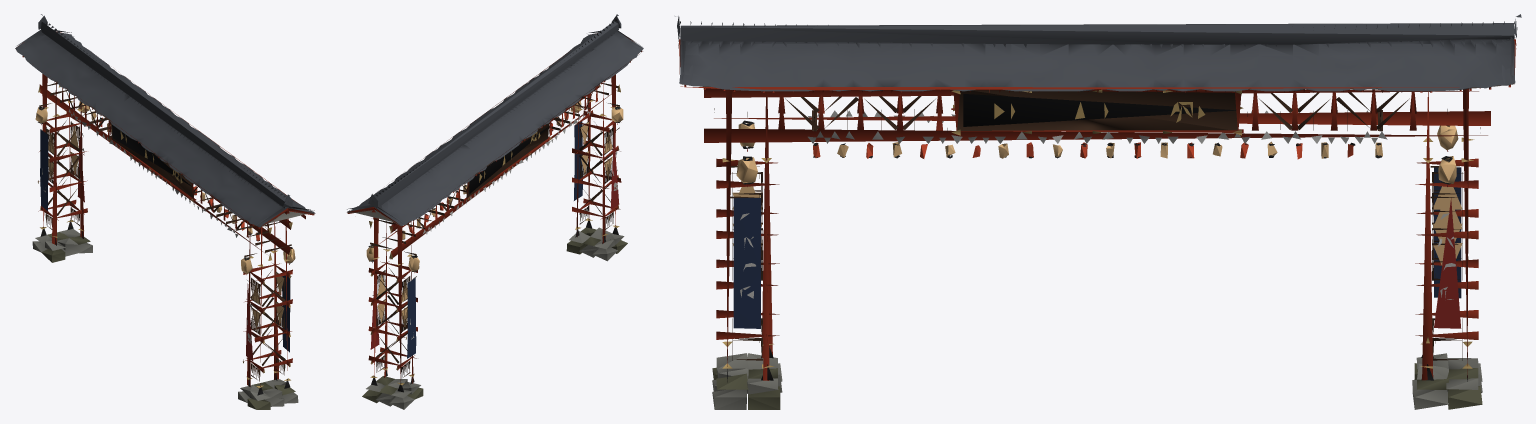
File: SM_StartArch_Momiji.glb
3 renders of one model, left to right at view 1: azimuth 30°, elevation 25°; view 2: azimuth 150°, elevation 25°; view 3: azimuth 270°, elevation 25°, orthographic. The views are drawn at different scales.
Visible parts, largest first — view 1: SM_StartArch_Momiji; view 2: SM_StartArch_Momiji; view 3: SM_StartArch_Momiji.
Boxes of the visible parts, x1=… form: SM_StartArch_Momiji: x1=15, y1=14, x2=315, y2=409; SM_StartArch_Momiji: x1=347, y1=14, x2=643, y2=409; SM_StartArch_Momiji: x1=675, y1=14, x2=1521, y2=409.
Size of the model in its own units: 3.54 by 12.76 by 25.92.
